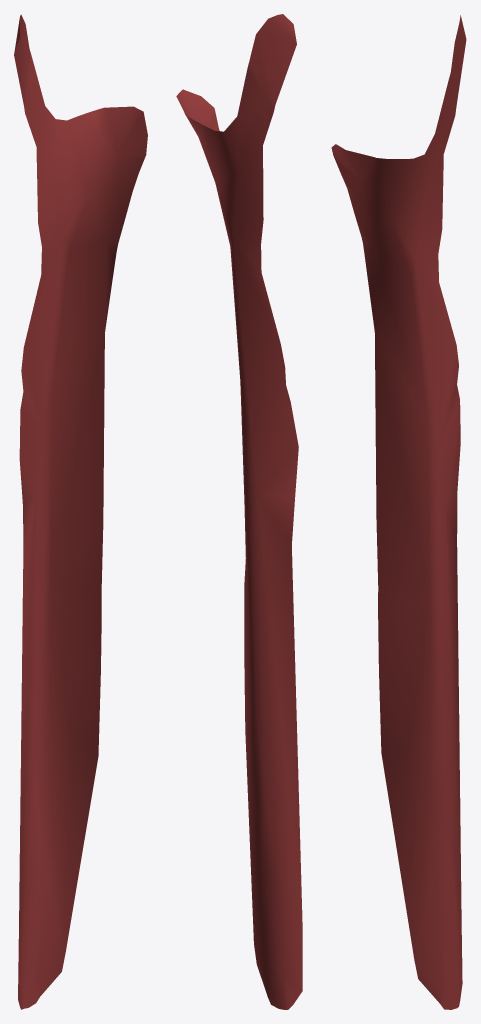
File: fibularis-longus-muscle-ol.glb
3 renders of one model, left to right at view 1: azimuth 90°, elevation 25°; view 2: azimuth 210°, elevation 25°; view 3: azimuth 270°, elevation 25°, orthographic.
Parts seen in each view (by area): view 1: Fibularis longus muscle.ol; view 2: Fibularis longus muscle.ol; view 3: Fibularis longus muscle.ol.
Part boxes in pixels (bbox=[...]): Fibularis longus muscle.ol: bbox=[14, 14, 147, 1009]; Fibularis longus muscle.ol: bbox=[176, 14, 302, 1009]; Fibularis longus muscle.ol: bbox=[331, 15, 466, 1009].
Size of the model in its own units: 0.0115 by 0.1463 by 0.018.
